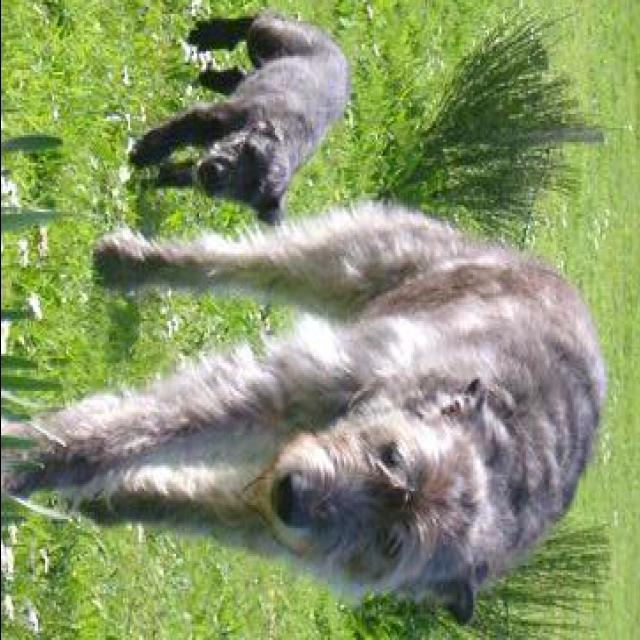irish_wolfhound: (2, 203, 608, 622), (124, 14, 352, 221)
